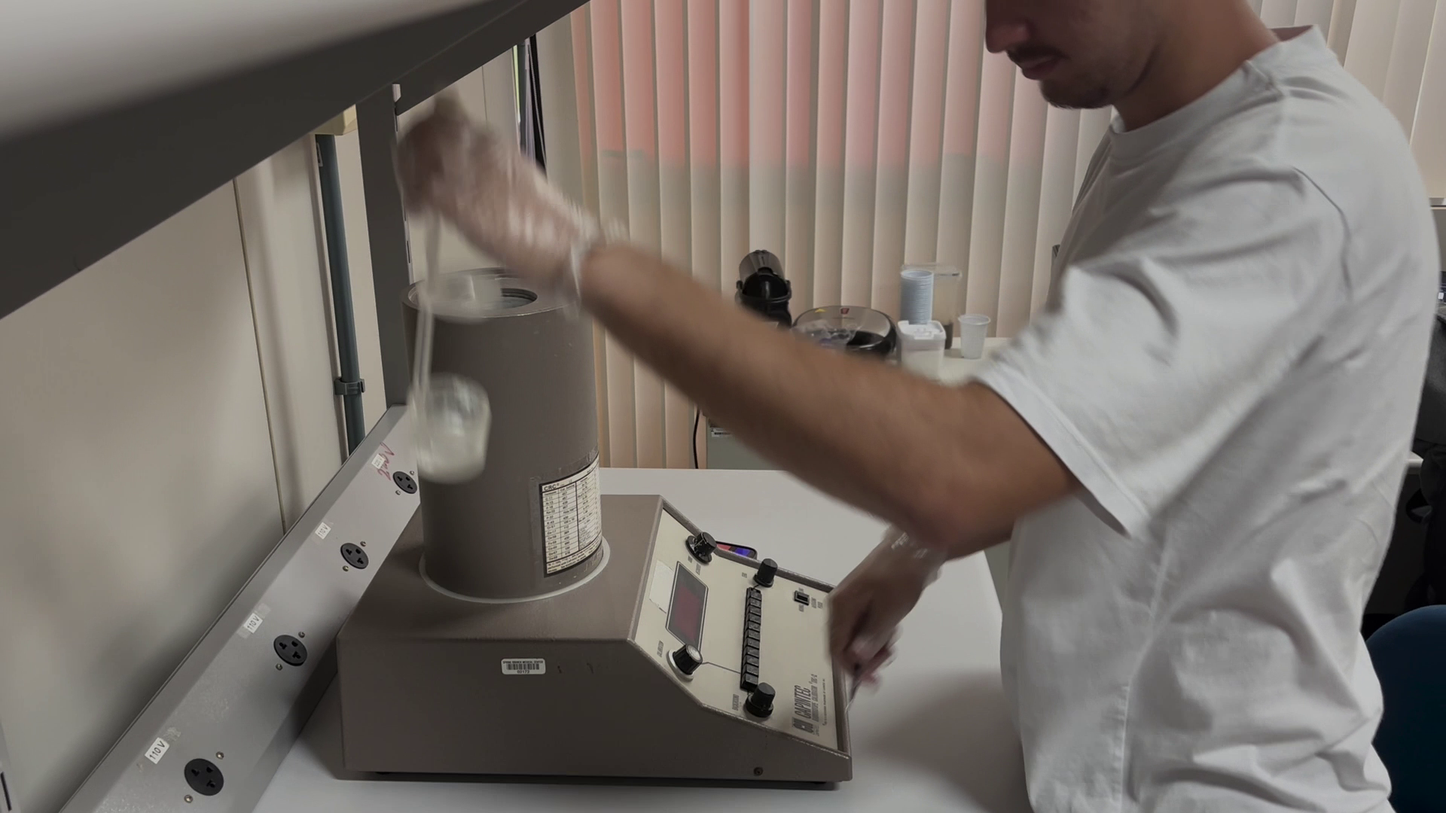Ativimetro: (398, 267, 609, 606)
Cesta: (410, 209, 490, 485)
Com_Luva: (392, 85, 618, 310), (823, 520, 941, 690)
